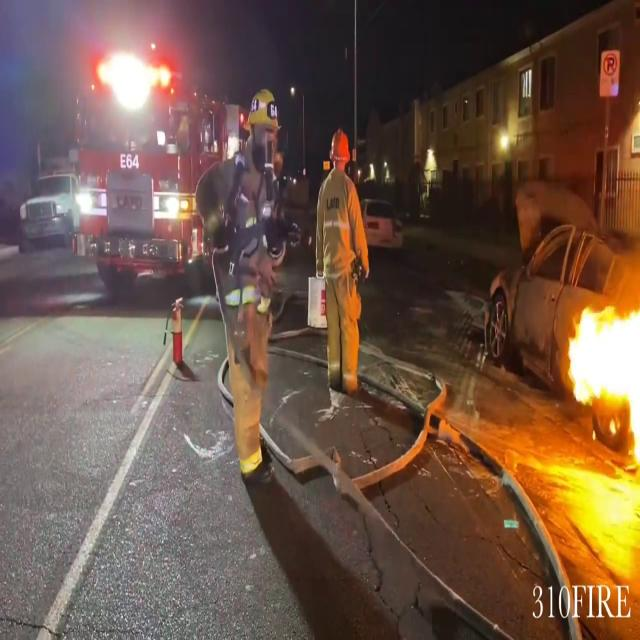Fire: (562, 275, 640, 462)
